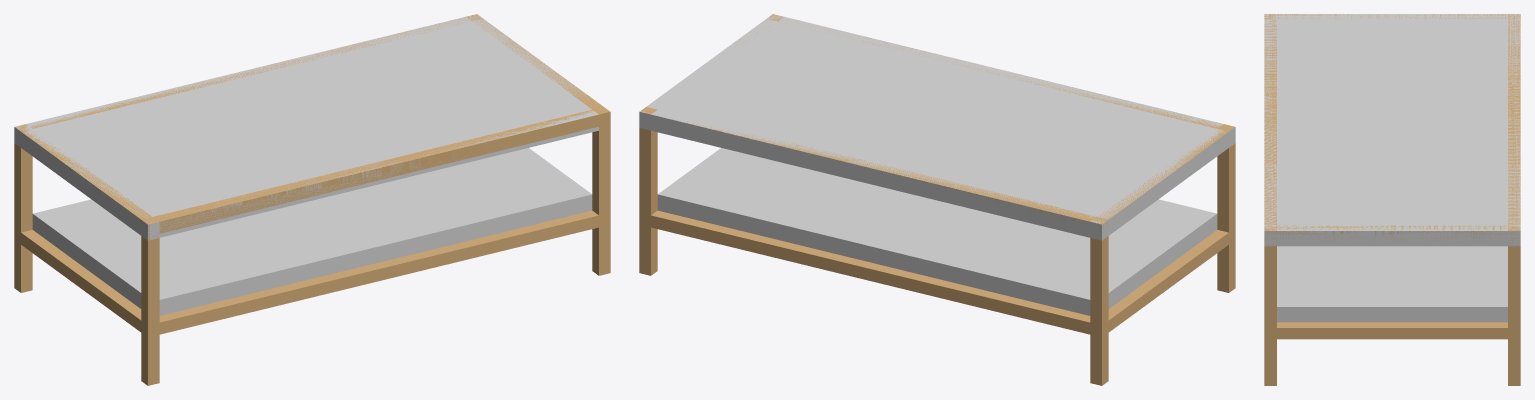
3 views of the same model, side by side, from view 1: azimuth 30°, elevation 25°; view 2: azimuth 150°, elevation 25°; view 3: azimuth 270°, elevation 25° (orthographic). The views are drawn at different scales.
Parts seen in each view (by area): view 1: Tabletop, Shelf, Copper_Frame; view 2: Tabletop, Shelf, Copper_Frame; view 3: Tabletop, Shelf, Copper_Frame.
Part boxes in pixels (x1,y1,x2,y2): Tabletop: (14,14,601,240); Shelf: (32,148,592,315); Copper_Frame: (14,14,610,385); Tabletop: (639,14,1235,240); Shelf: (657,148,1217,315); Copper_Frame: (639,14,1235,385); Tabletop: (1264,14,1520,246); Shelf: (1277,246,1507,322); Copper_Frame: (1264,14,1520,385).
Bounding box in the file's own units: 1.2 × 0.4 × 0.6.
